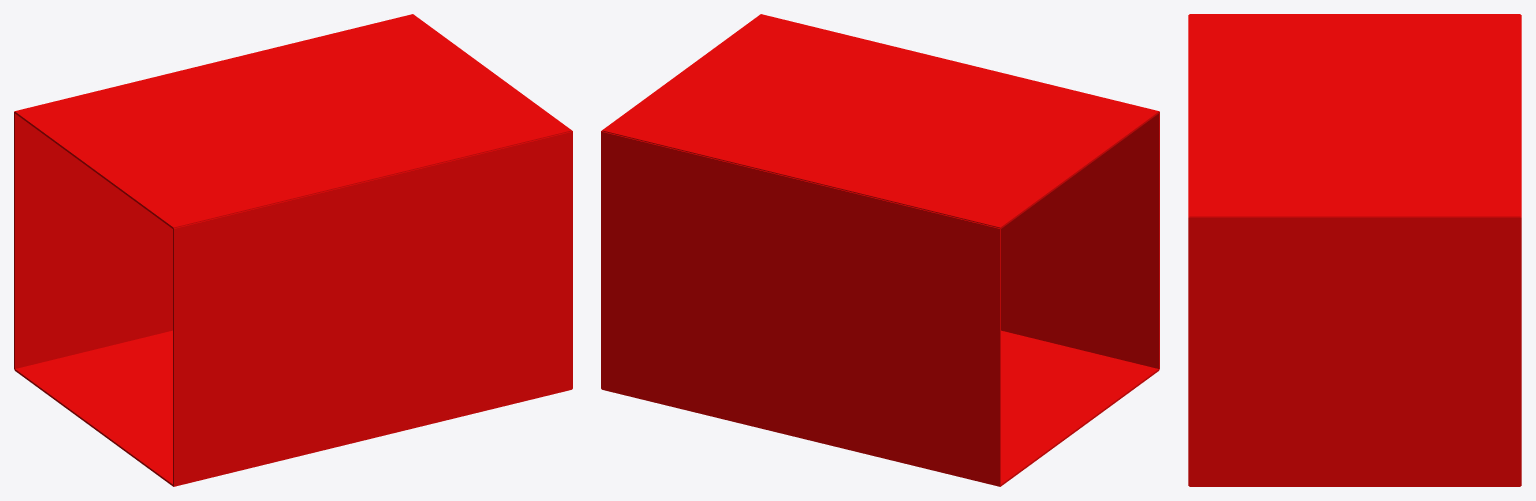
File: broad_tall_cubbyhole.dae
The picture shows the model from 3 angles, left to right: view 1: azimuth 30°, elevation 25°; view 2: azimuth 150°, elevation 25°; view 3: azimuth 270°, elevation 25°; orthographic projection. The views are drawn at different scales.
Parts seen in each view (by area): view 1: BroadTallCubbyhole (×4); view 2: BroadTallCubbyhole (×4); view 3: BroadTallCubbyhole (×4).
Part boxes in pixels (x1,y1,x2,y2): BroadTallCubbyhole (×4): (14,14,572,486); BroadTallCubbyhole (×4): (601,14,1159,486); BroadTallCubbyhole (×4): (1188,14,1521,486).
Bounding box in the file's own units: 0.4328 × 0.3004 × 0.2696.
